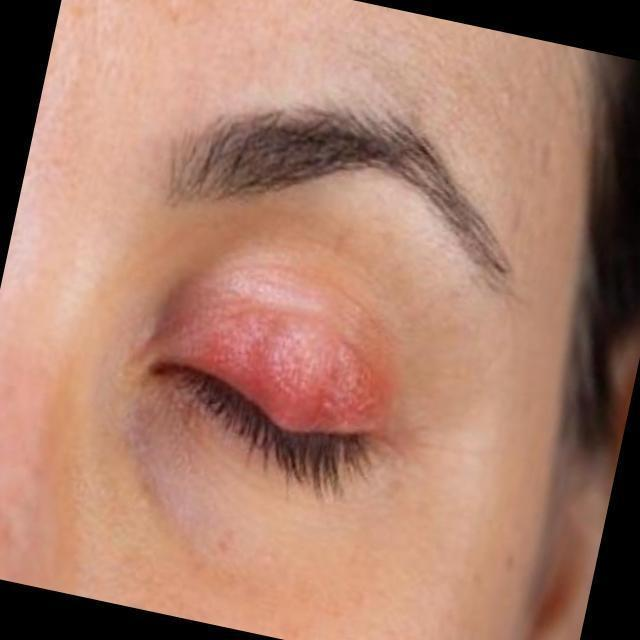Stye: (172, 262, 453, 483)
